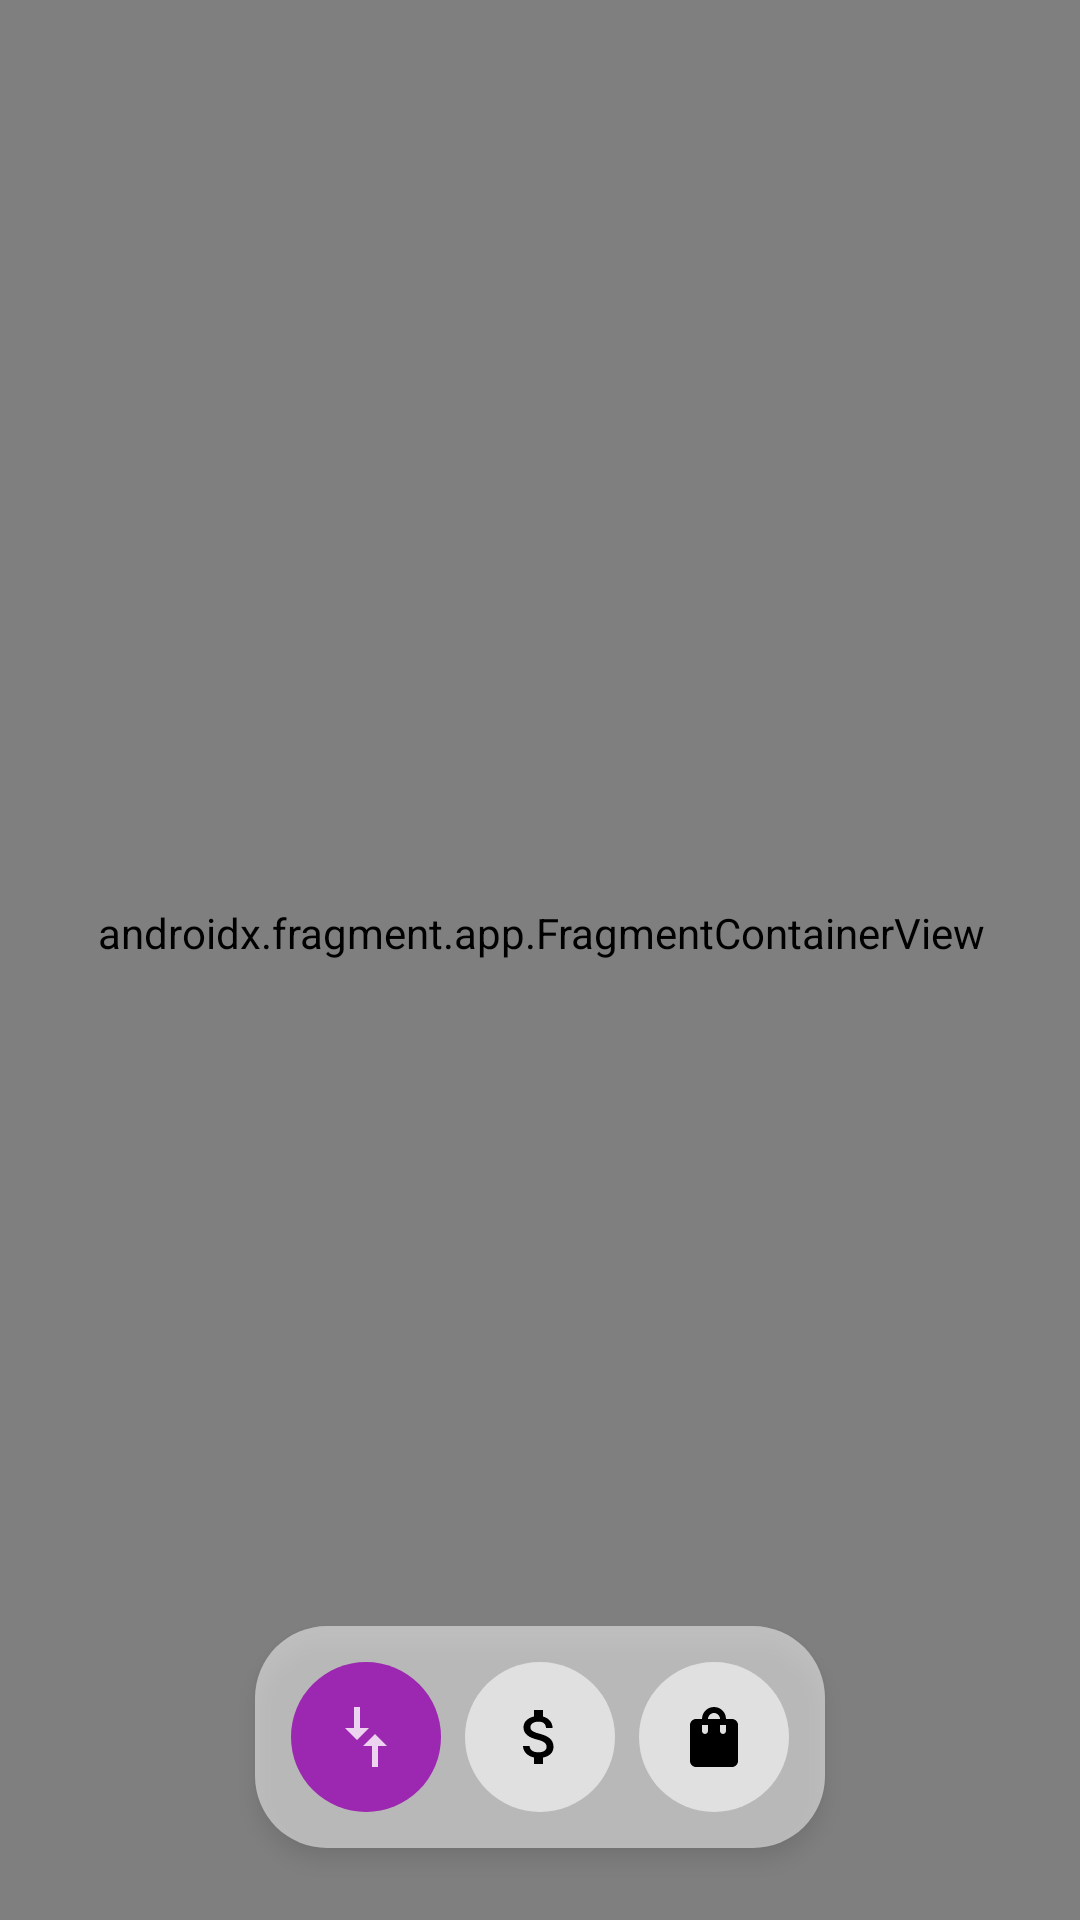

Icon click points for this 1080 x 1920 phone screenshot, format point (x, y):
Ícone de Dólar: point (540, 1737)
Ícone de Sacola: point (714, 1737)
Ícone de Transação: point (366, 1737)
